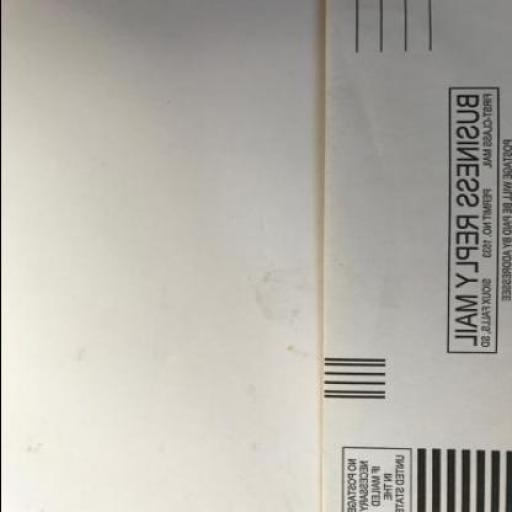cardboard: (321, 1, 511, 512)
paper: (322, 1, 511, 512)
